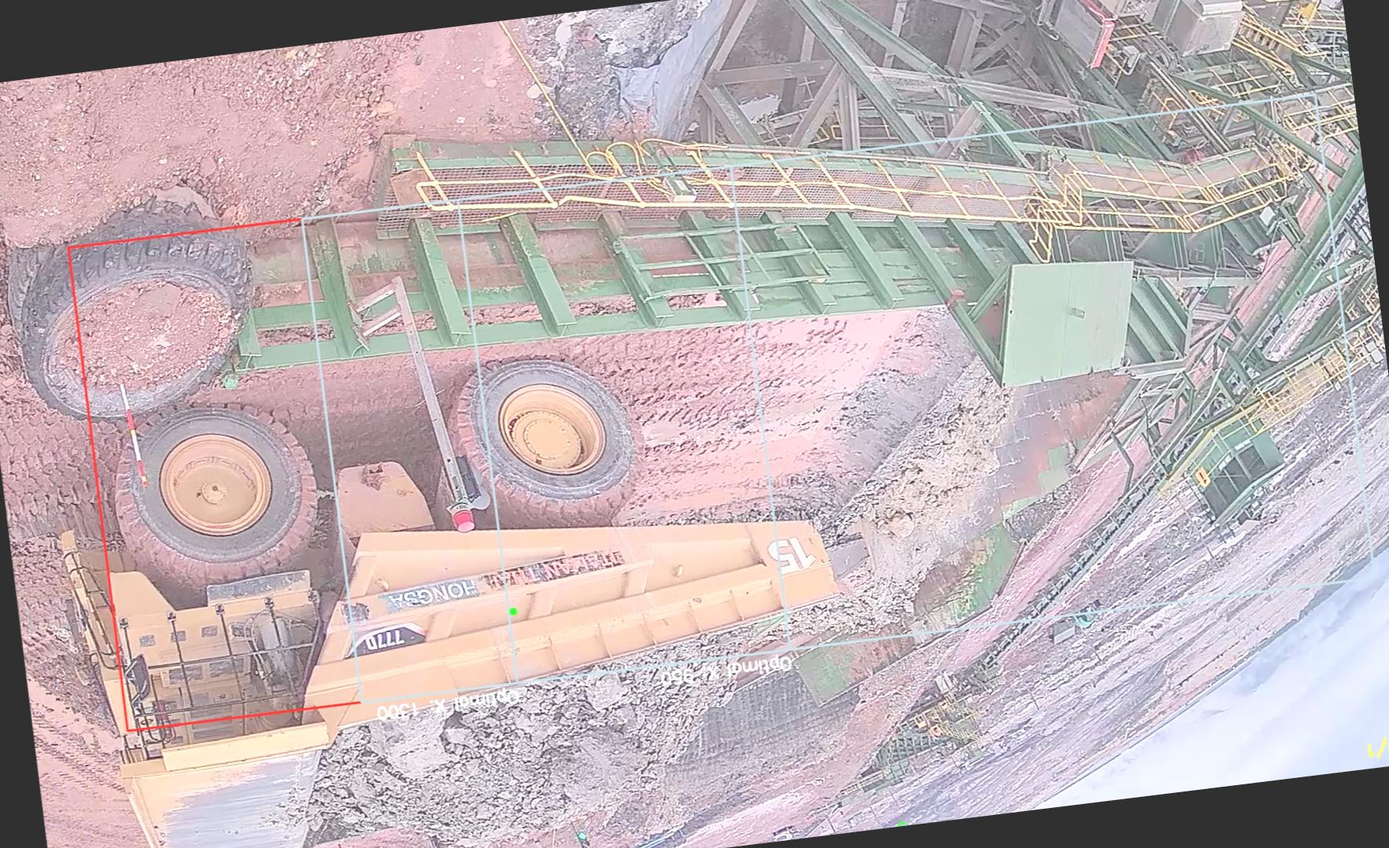company: (350, 541, 641, 620)
full_load: (347, 645, 671, 848)
mining_truck: (28, 329, 875, 848)
tail_number: (757, 519, 828, 592)
truck_size: (334, 613, 440, 667)
